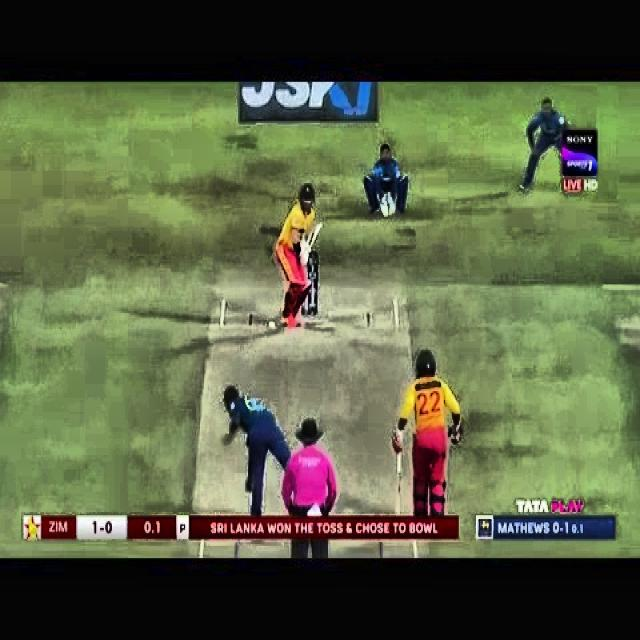Left-stump: (302, 306, 304, 314)
Middle-stump: (308, 293, 311, 314)
Right-stump: (314, 255, 316, 313)
